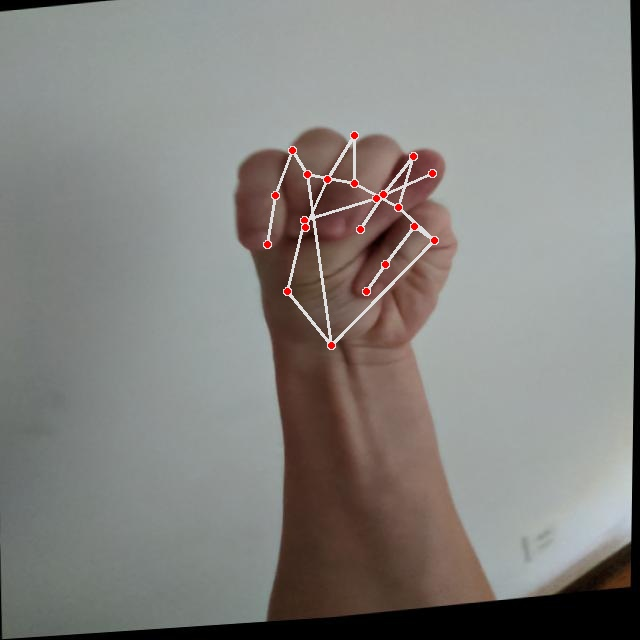M: (222, 112, 472, 375)
